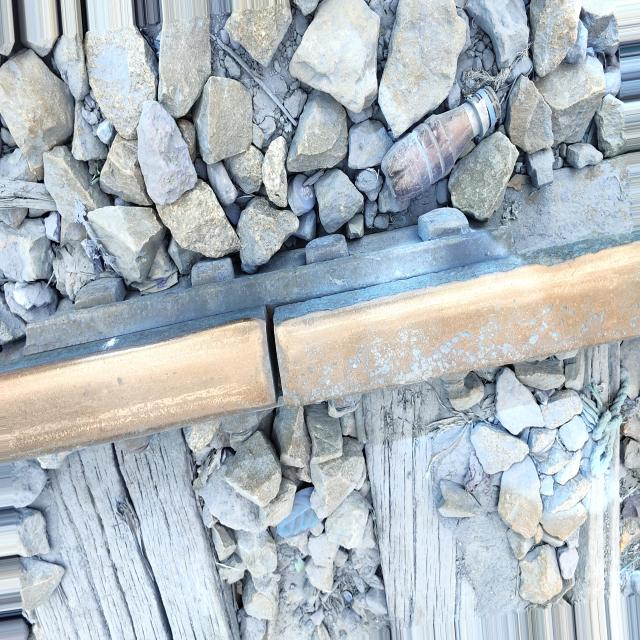crack: (248, 286, 306, 438)
